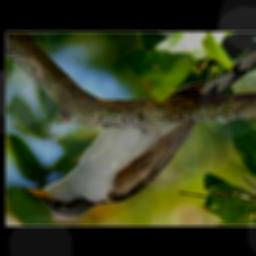Cuckoo: (16, 33, 256, 219)
